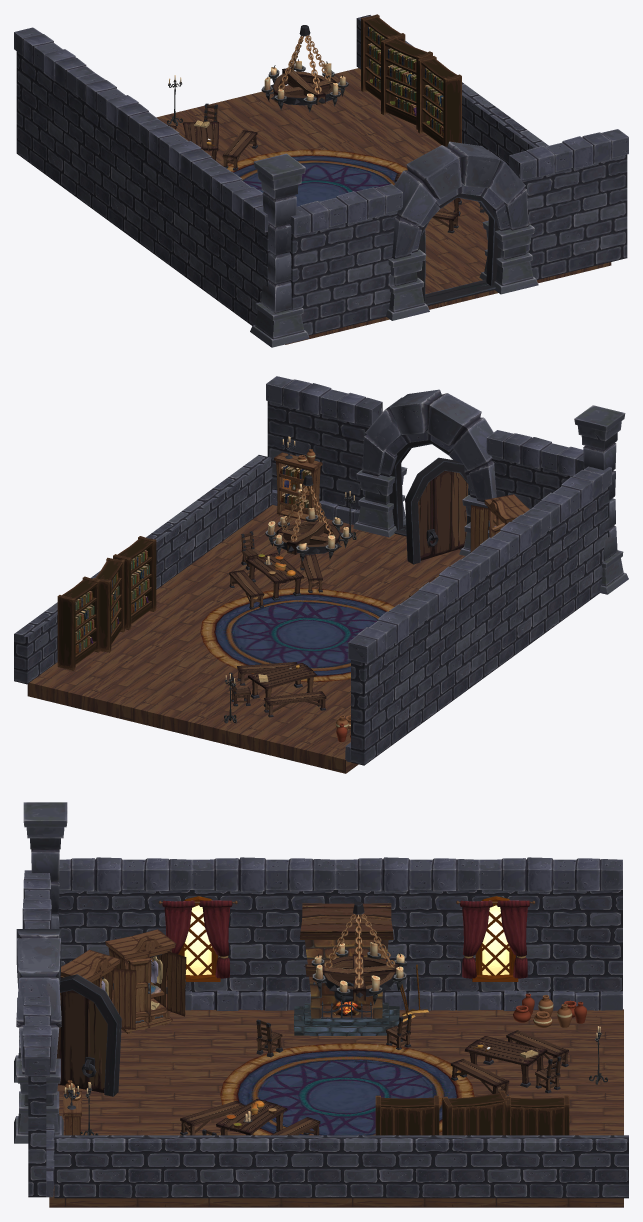
The model's file is ServantsQuartet.gltf.
The picture shows the model from 3 angles, top to bottom: view 1: azimuth 30°, elevation 25°; view 2: azimuth 150°, elevation 25°; view 3: azimuth 270°, elevation 25°; orthographic projection. The views are drawn at different scales.
Parts seen in each view (by area): view 1: ServantsQuartet; view 2: ServantsQuartet; view 3: ServantsQuartet.
Part boxes in pixels (x1,y1,x2,y2): ServantsQuartet: [14, 14, 628, 347]; ServantsQuartet: [14, 376, 628, 773]; ServantsQuartet: [14, 802, 628, 1207].
Size of the model in its own units: 13.41 by 6.45 by 17.13.
19 materials, 19 textured.
